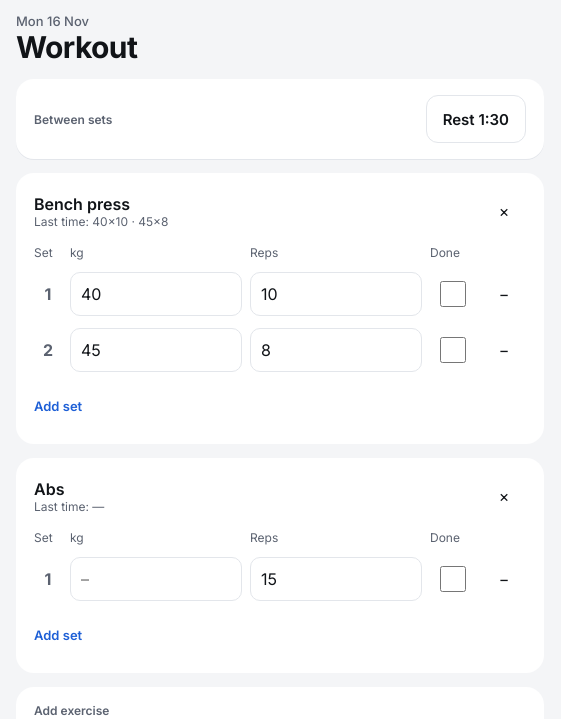
Scenario: 1000 kg or more is refused on the screen, before the Sheet refuses it
Replace the text in the field named "Set 1 kg" with "1000": point(156, 294) [70, 272, 242, 316]
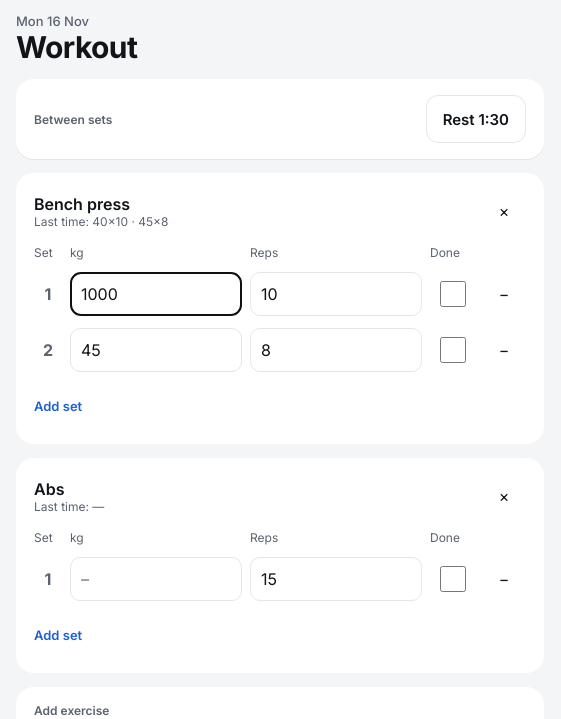
Click the 1st checkbox named "Set 1 done": point(452, 294) [440, 281, 466, 307]
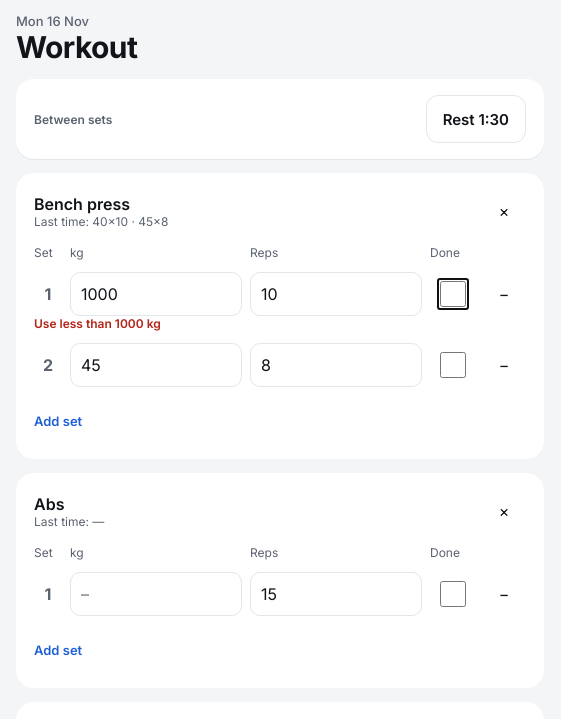
Check: the text "Use less than 1000 kg" is shown, box [34, 316, 161, 331]
